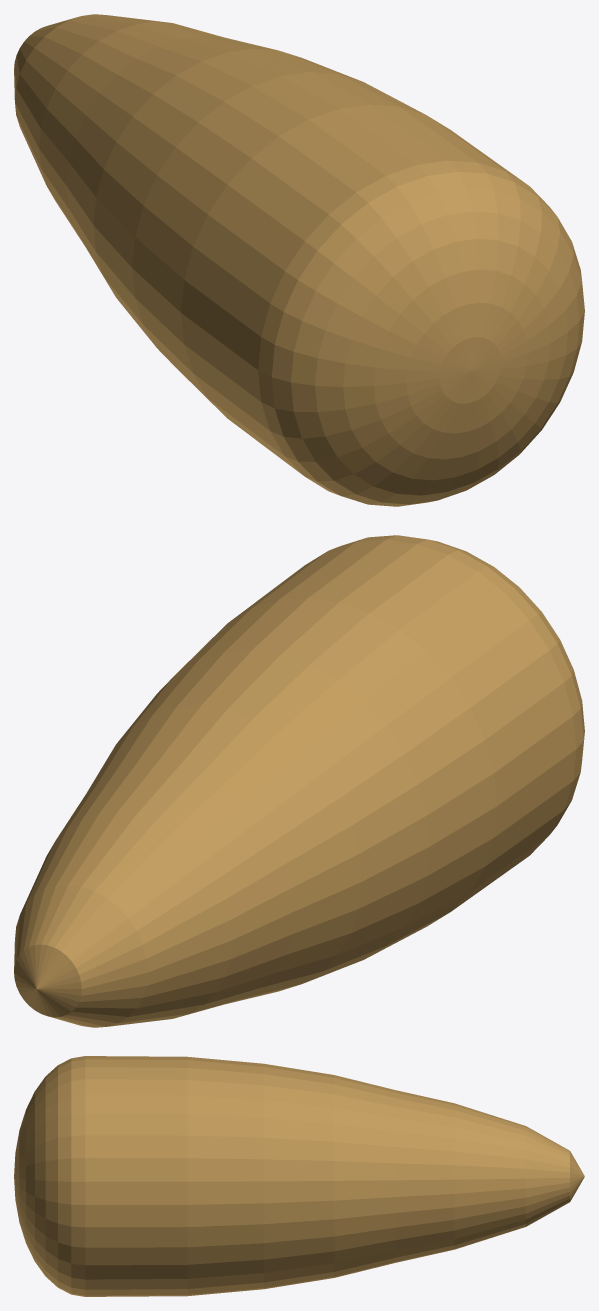
Rendered from AK Bullet.fbx.
3 views of the same model, one above another, from view 1: azimuth 30°, elevation 25°; view 2: azimuth 150°, elevation 25°; view 3: azimuth 270°, elevation 25° (orthographic). The views are drawn at different scales.
Visible parts, largest first — view 1: Sphere.001; view 2: Sphere.001; view 3: Sphere.001.
Part boxes in pixels (box(x1,y1,x2,y2)): Sphere.001: box(14, 14, 584, 506); Sphere.001: box(14, 535, 584, 1027); Sphere.001: box(14, 1056, 584, 1296).
Bounding box in the file's own units: 200 × 200 × 473.
